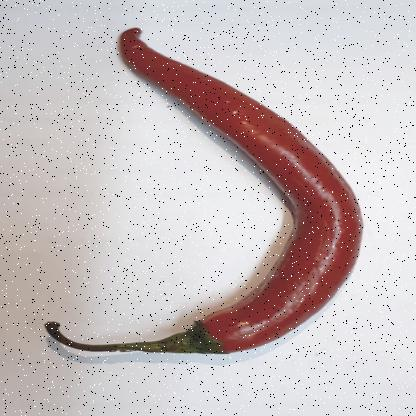chili: (41, 26, 360, 358)
